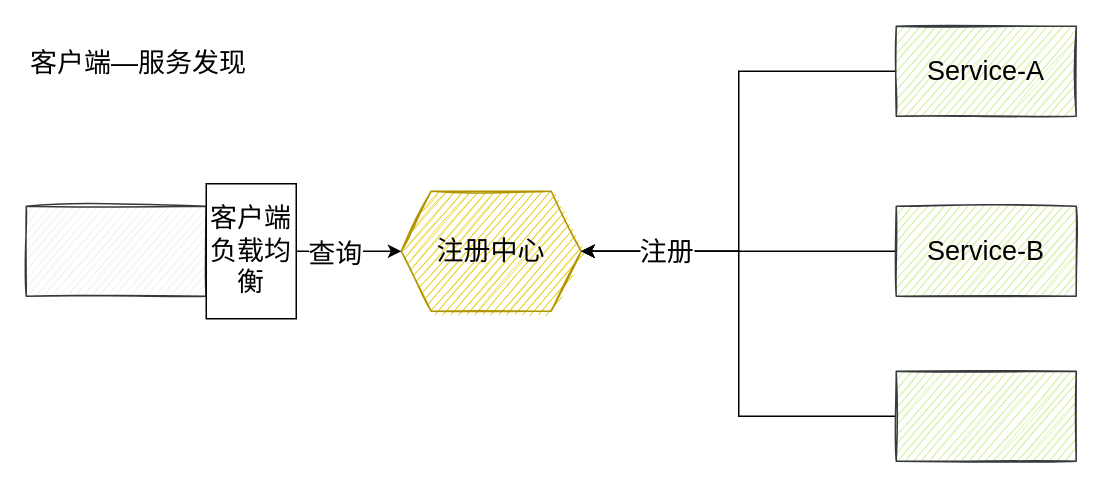
Image size: 1103x488. Some labels were removed from this diagram. Here are the shapes that lost their labels. From the top down, the centre of each, then its label:
At point 115,250: "Service-D".
At point 985,415: "Service-C".
